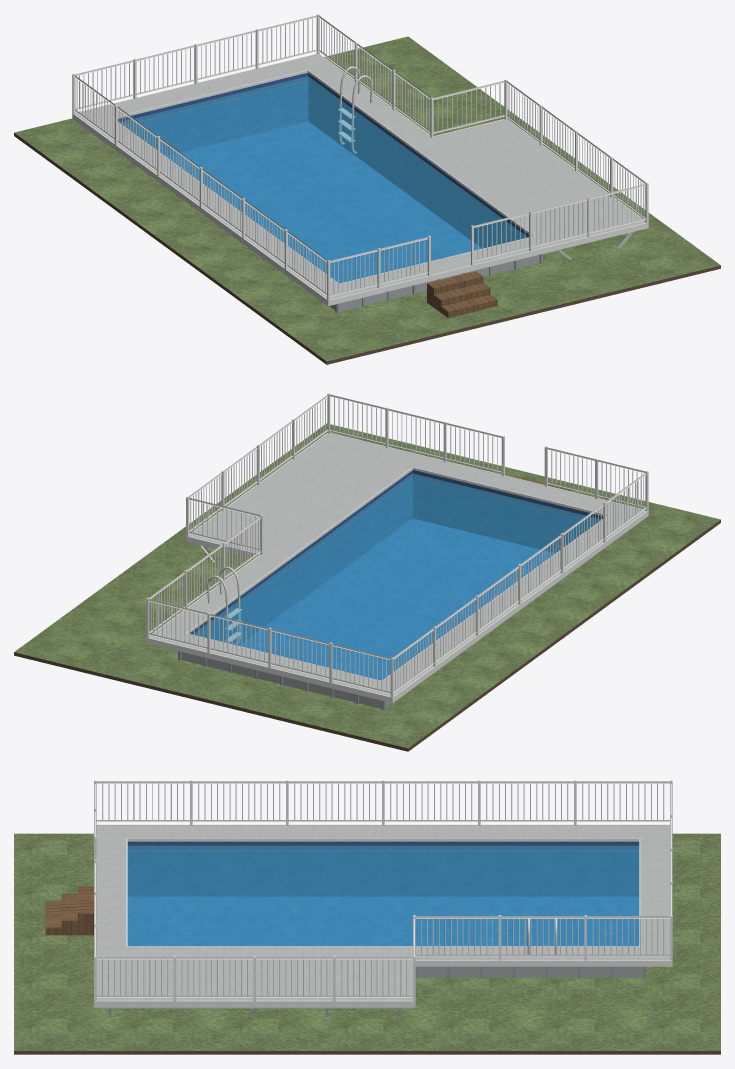
The model's file is kayak-pool-16x32-gray-l-rec-fence.a2e1a54ebf.glb.
3 views of the same model, one above another, from view 1: azimuth 30°, elevation 25°; view 2: azimuth 150°, elevation 25°; view 3: azimuth 270°, elevation 25° (orthographic). The views are drawn at different scales.
Parts seen in each view (by area): view 1: ground, water, deck, liner_floor, fence, liner_wall, fascia, soil, steps, wall, steel; view 2: ground, water, deck, liner_floor, fence, liner_wall, fascia, soil, wall, steel; view 3: ground, water, deck, liner_wall, liner_floor, fence, fascia, soil, wall, steps, stud.
Boxes of the visible parts, left/top/right/bottom form: ground: left=14, top=36, right=720, bottom=361; water: left=120, top=76, right=527, bottom=283; deck: left=75, top=54, right=645, bottom=299; liner_floor: left=165, top=121, right=481, bottom=283; fence: left=72, top=14, right=648, bottom=300; liner_wall: left=118, top=72, right=528, bottom=247; fascia: left=72, top=53, right=648, bottom=305; soil: left=14, top=133, right=720, bottom=364; steps: left=427, top=271, right=497, bottom=318; wall: left=329, top=254, right=539, bottom=311; steel: left=338, top=66, right=372, bottom=153; ground: left=14, top=423, right=720, bottom=748; water: left=193, top=473, right=600, bottom=680; deck: left=149, top=433, right=645, bottom=696; liner_floor: left=239, top=518, right=555, bottom=680; fence: left=146, top=393, right=648, bottom=697; liner_wall: left=190, top=470, right=602, bottom=645; fascia: left=146, top=433, right=648, bottom=703; soil: left=14, top=520, right=720, bottom=751; wall: left=181, top=652, right=391, bottom=708; steel: left=207, top=566, right=241, bottom=644; ground: left=14, top=833, right=720, bottom=1050; water: left=127, top=845, right=639, bottom=946; deck: left=96, top=825, right=669, bottom=1000; liner_wall: left=127, top=841, right=639, bottom=896; liner_floor: left=127, top=896, right=639, bottom=946; fence: left=94, top=780, right=672, bottom=1001; fascia: left=94, top=824, right=672, bottom=1007; soil: left=14, top=1051, right=720, bottom=1054; wall: left=417, top=966, right=643, bottom=977; steps: left=45, top=886, right=93, bottom=935; stud: left=95, top=1007, right=414, bottom=1016.
Bounding box in the file's own units: 9.75 × 2.15 × 13.4.
13 materials, 5 textured.
